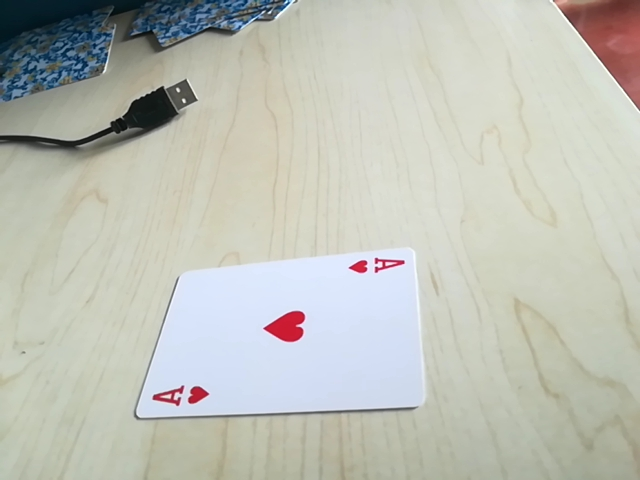hx a: (144, 381, 217, 413), (345, 250, 410, 281)
